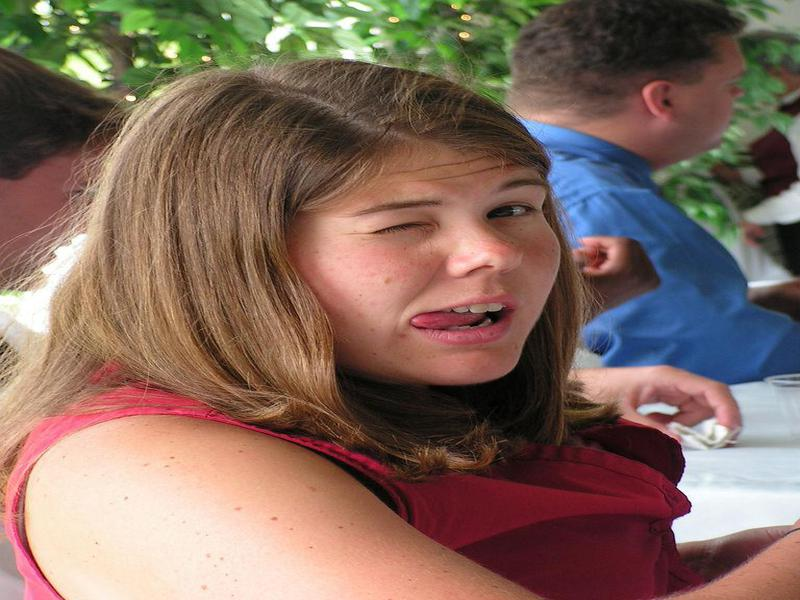person: (46, 75, 774, 600), (513, 15, 800, 376), (2, 43, 112, 317)
